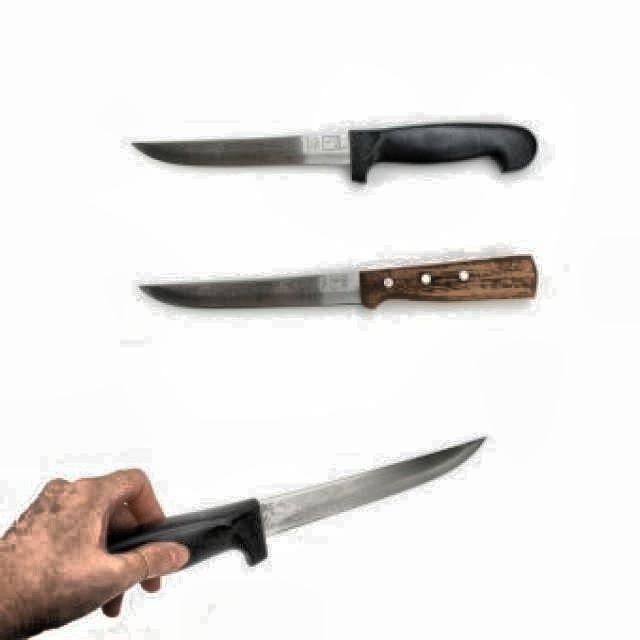knife: (108, 430, 490, 580), (128, 118, 550, 184), (134, 254, 554, 308)
